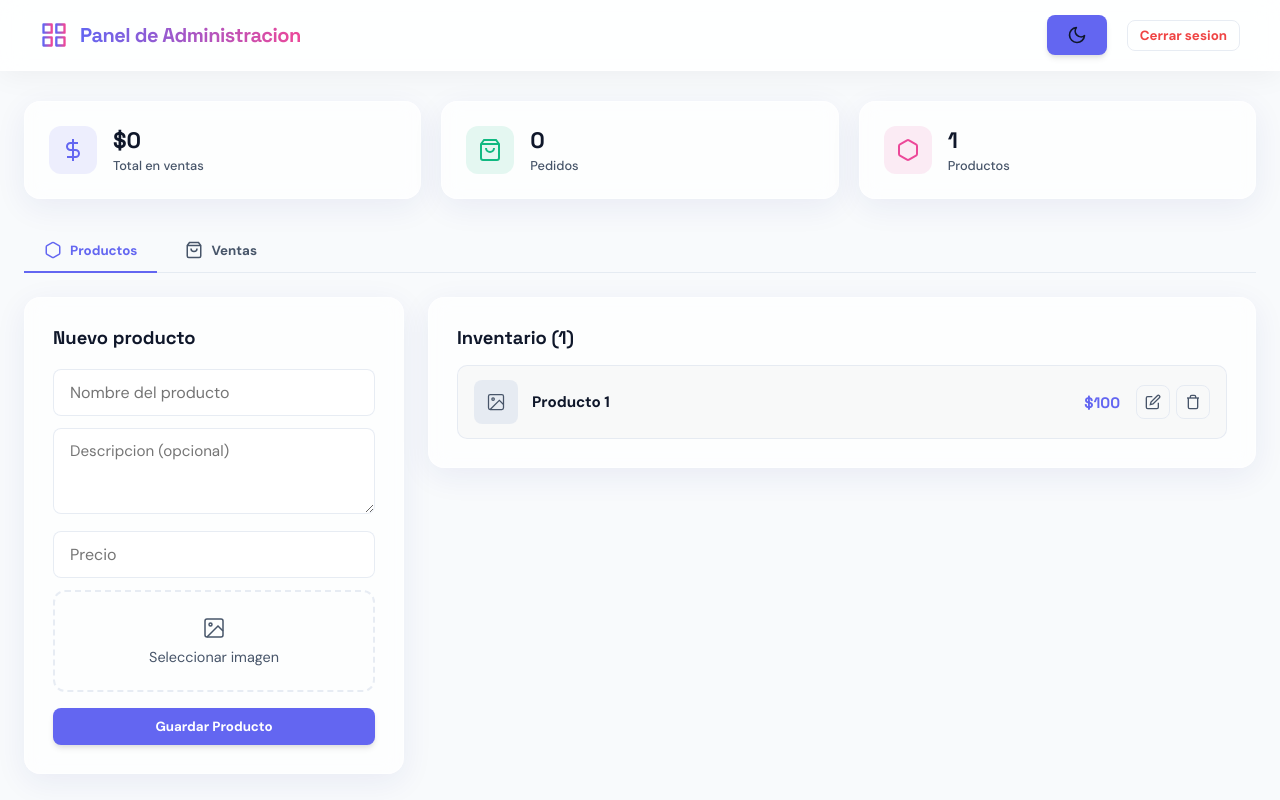
Test: Admin Component › Gestión de Productos (CRUD) › ✓ HAPPY PATH: editar producto existente
Expected: the text "Producto 1" is shown, [532, 392, 610, 412]
Click the button titled "Editar".
click(1153, 402)  # box [1136, 385, 1170, 419]
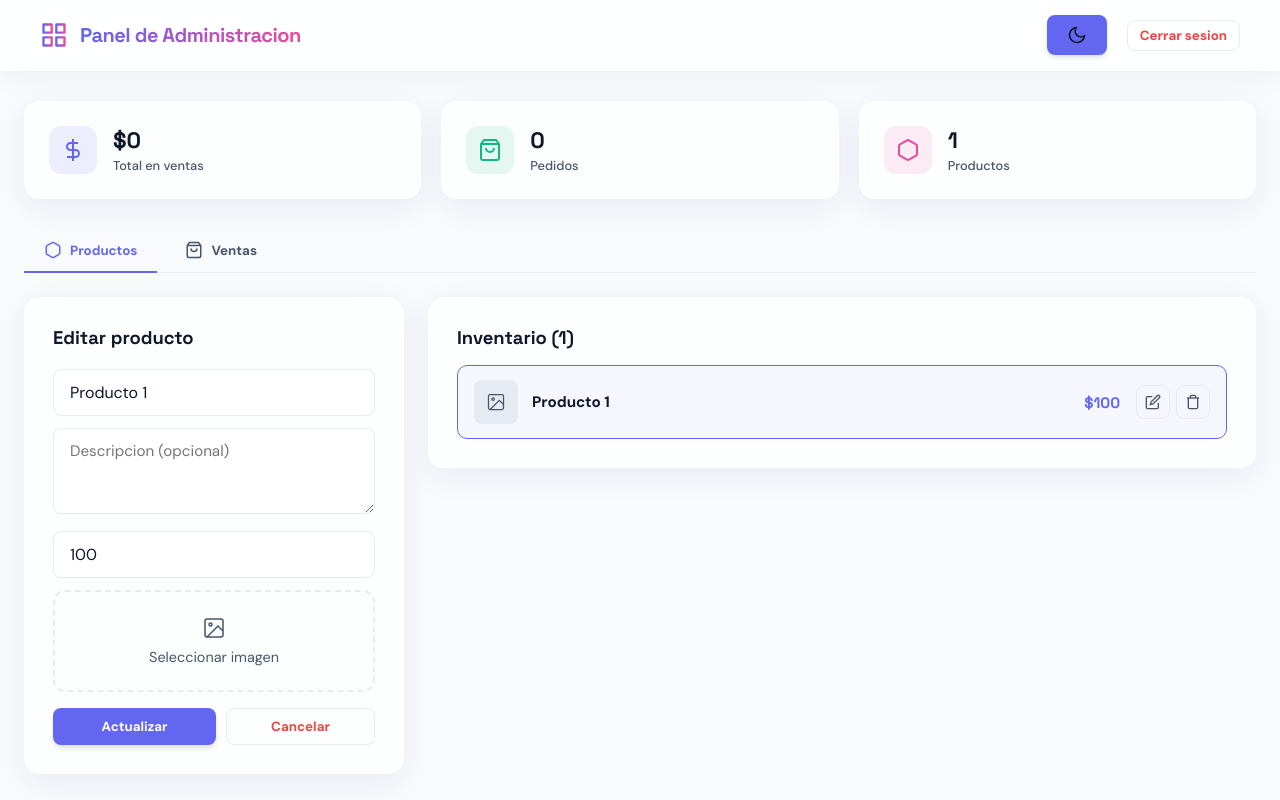
Expected: the field showing "Producto 1" is shown, [53, 369, 375, 416]
Expected: the heading "Editar producto" is shown, [53, 326, 194, 349]
